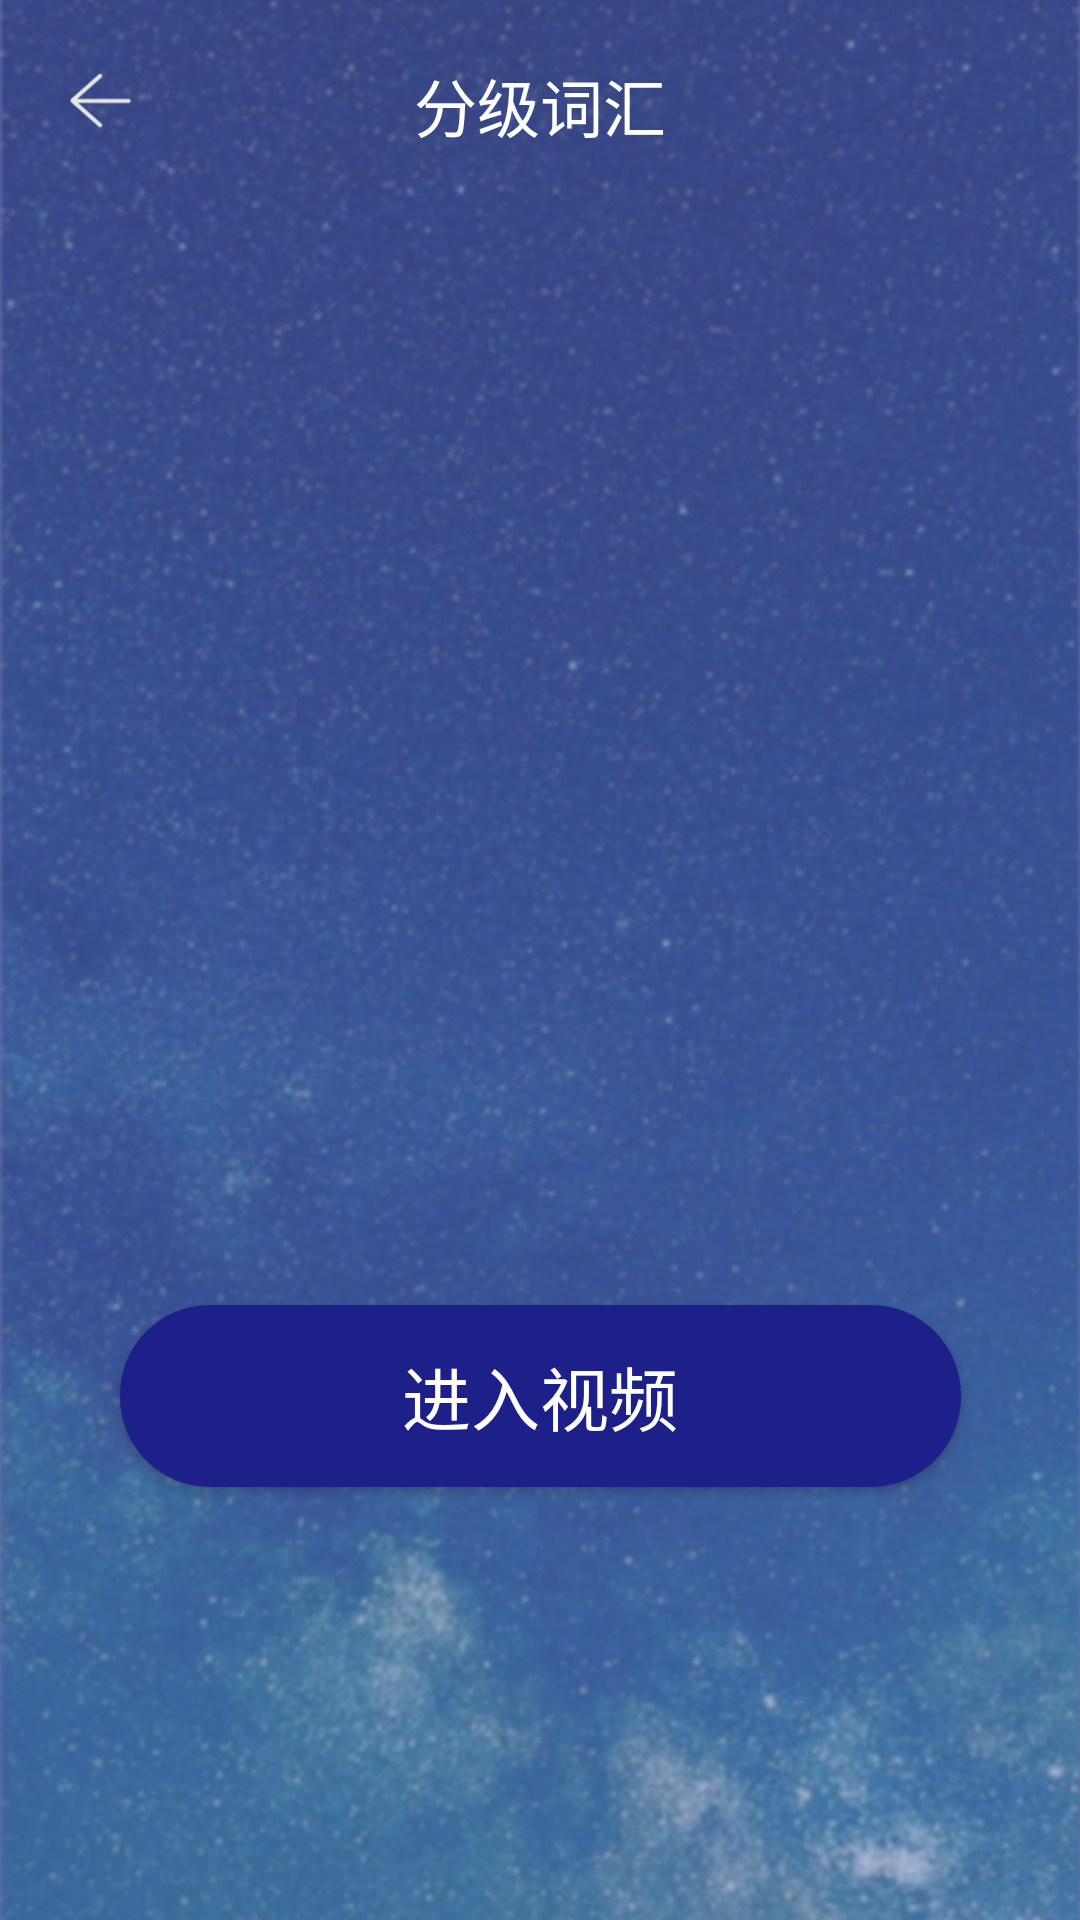

Icon click points for this 1080 × 1920 phone screenshot, format [x,y]:
back: [100,100]
